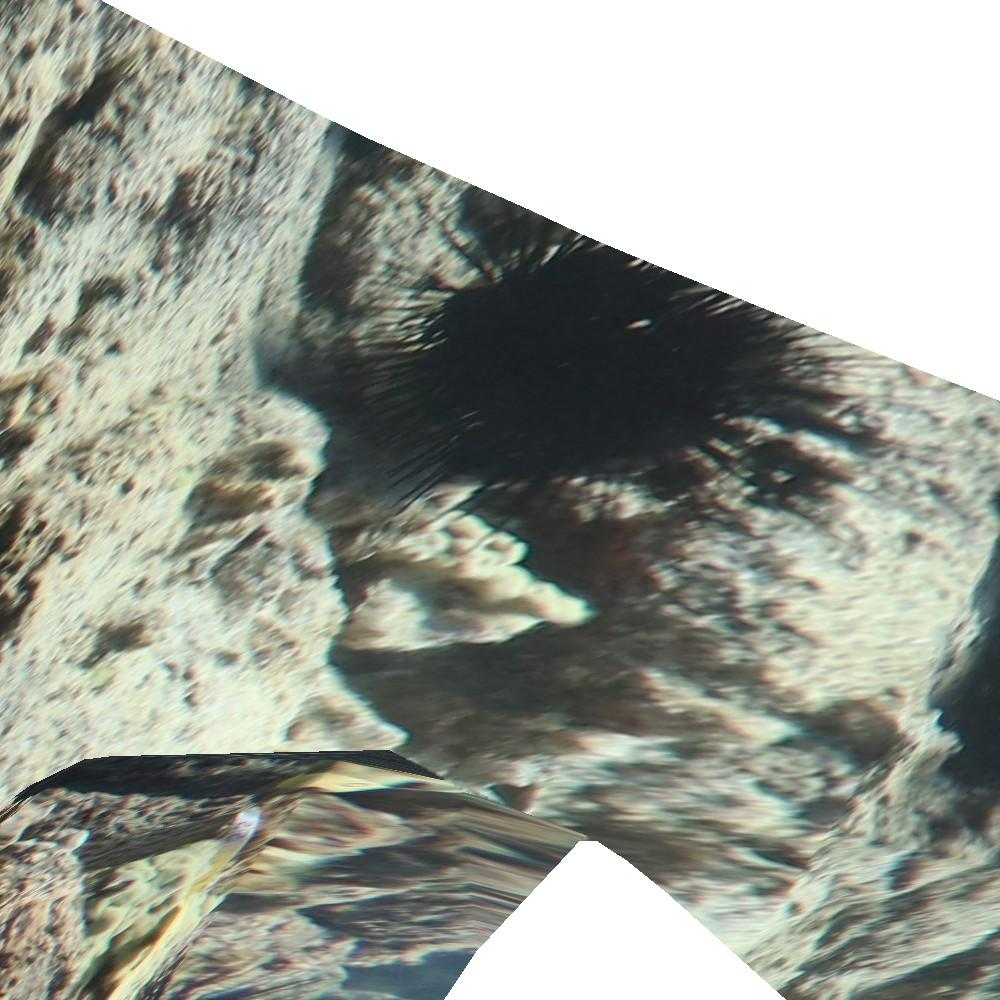diadema_paucispinum: (363, 201, 875, 512)
